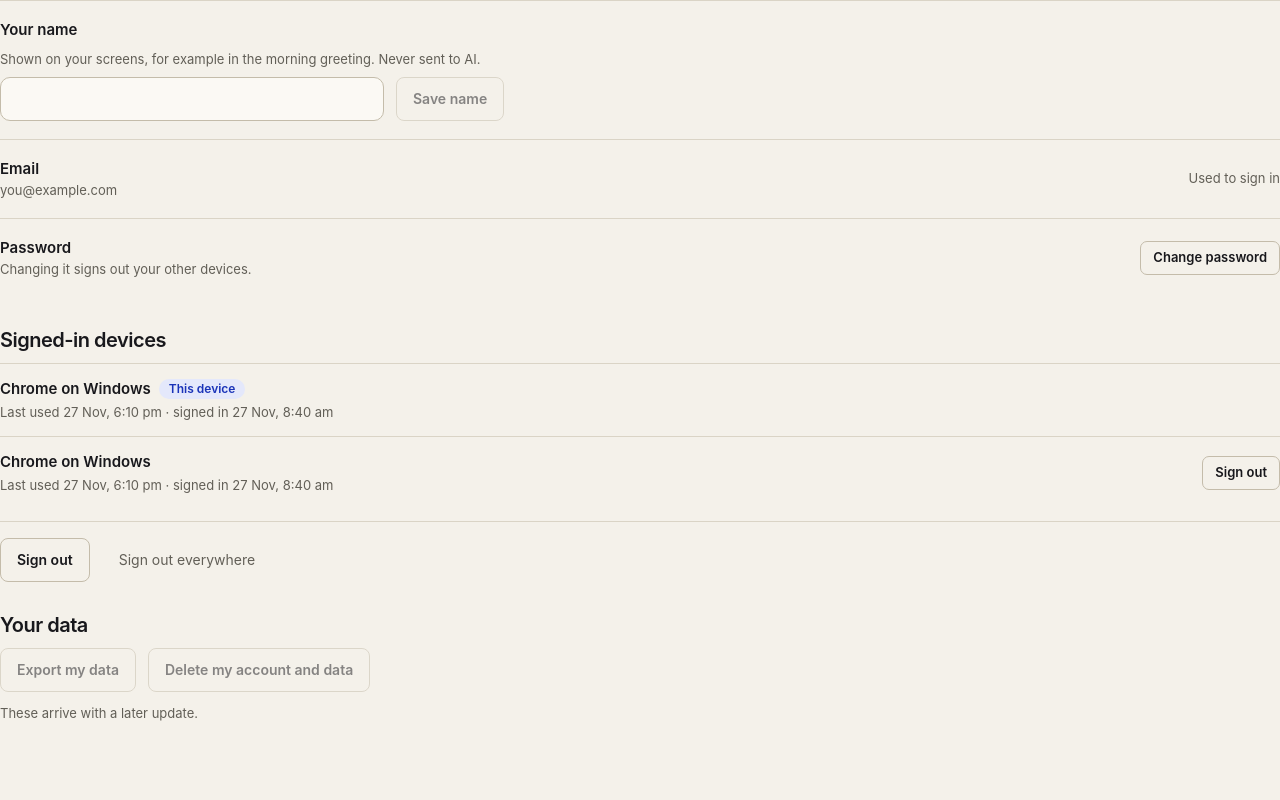
it: account settings › checks the new password before sending it
This screenshot has width=1280, height=800.
Click the button "Change password". click: (1210, 258)
box: [1140, 241, 1279, 275]
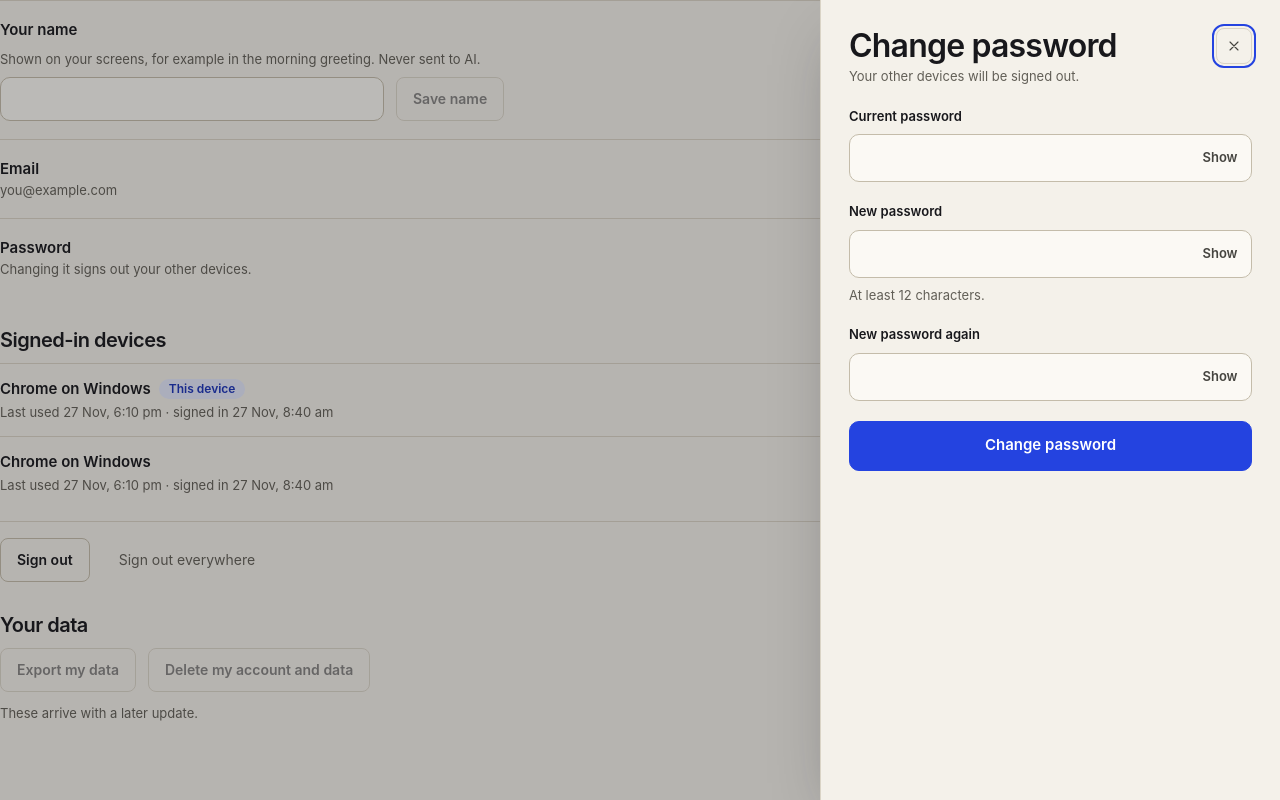
Type "old password here" into the password field labelled "Current password". click: (1050, 158)
box: [849, 134, 1252, 182]
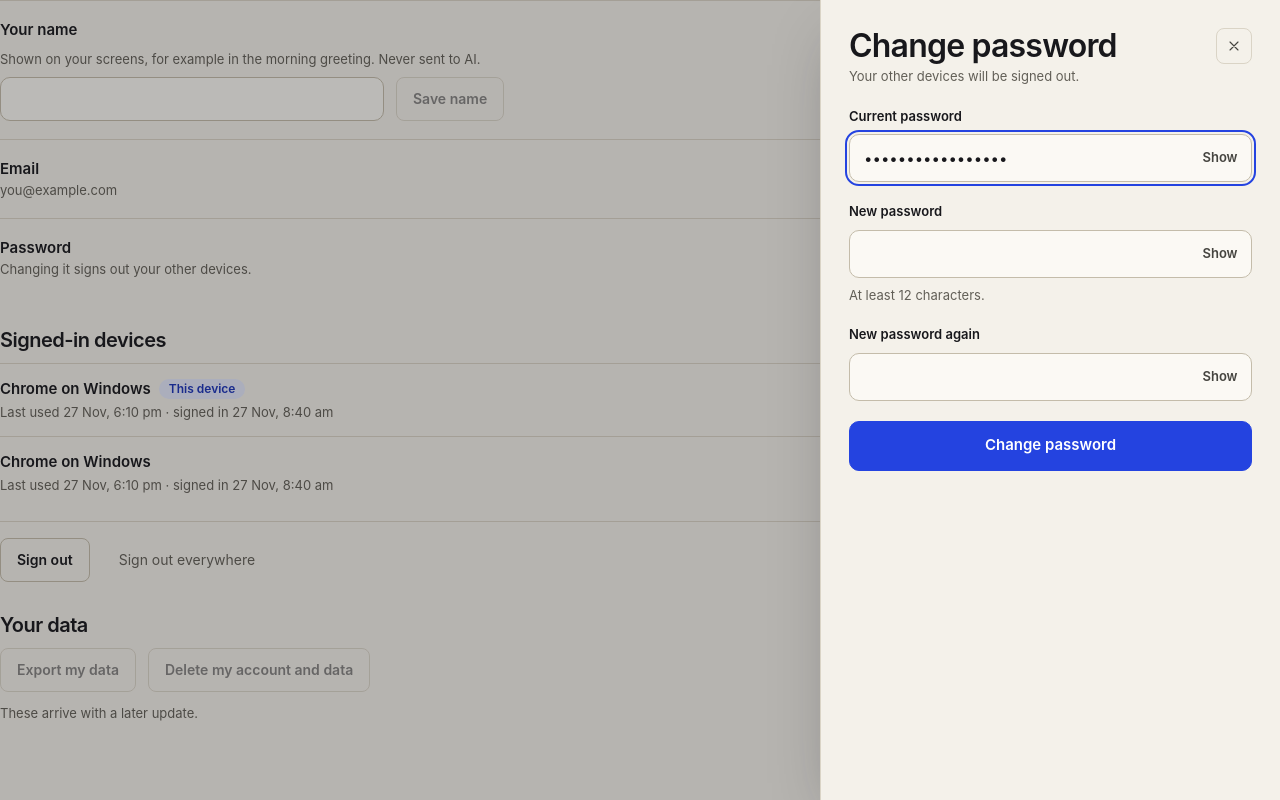
Type "short" into the password field labelled "New password". click: (1050, 254)
box: [849, 230, 1252, 278]
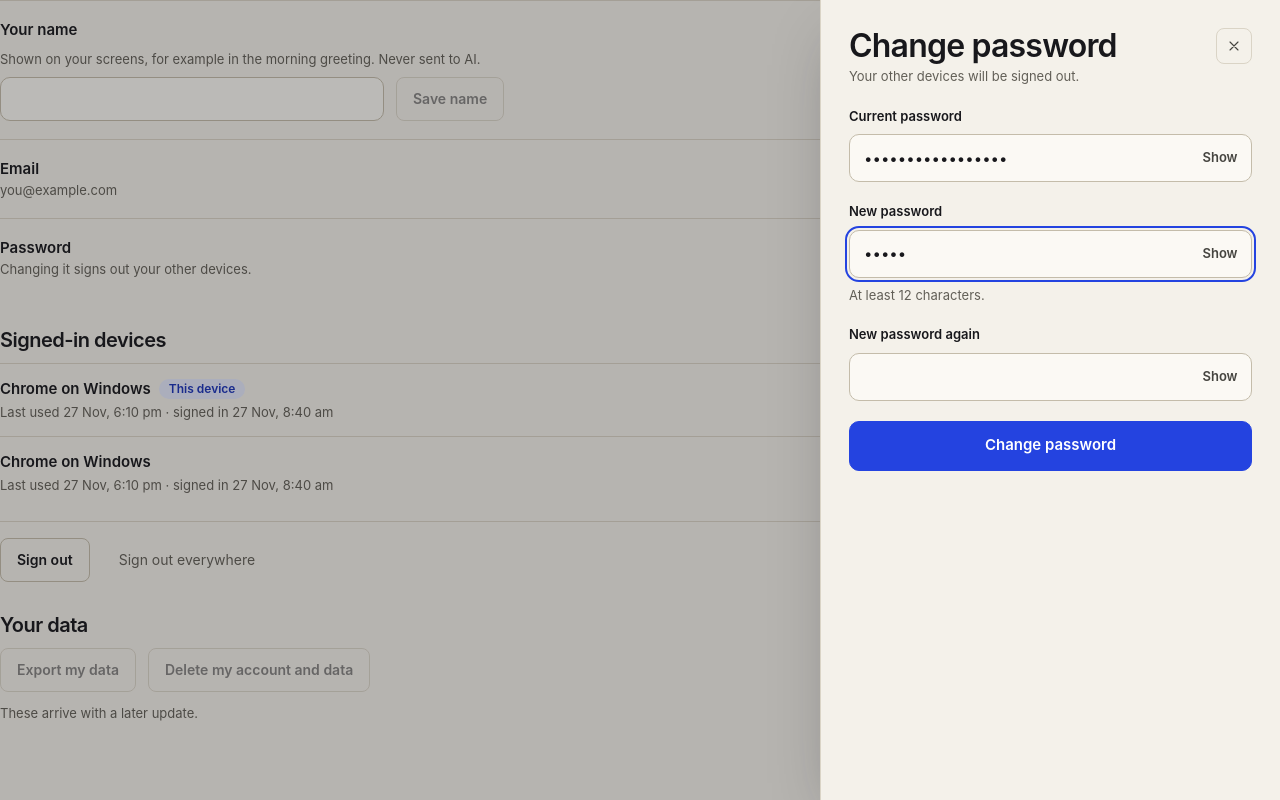
Type "different" into the password field labelled "New password again". click: (1050, 377)
box: [849, 353, 1252, 401]
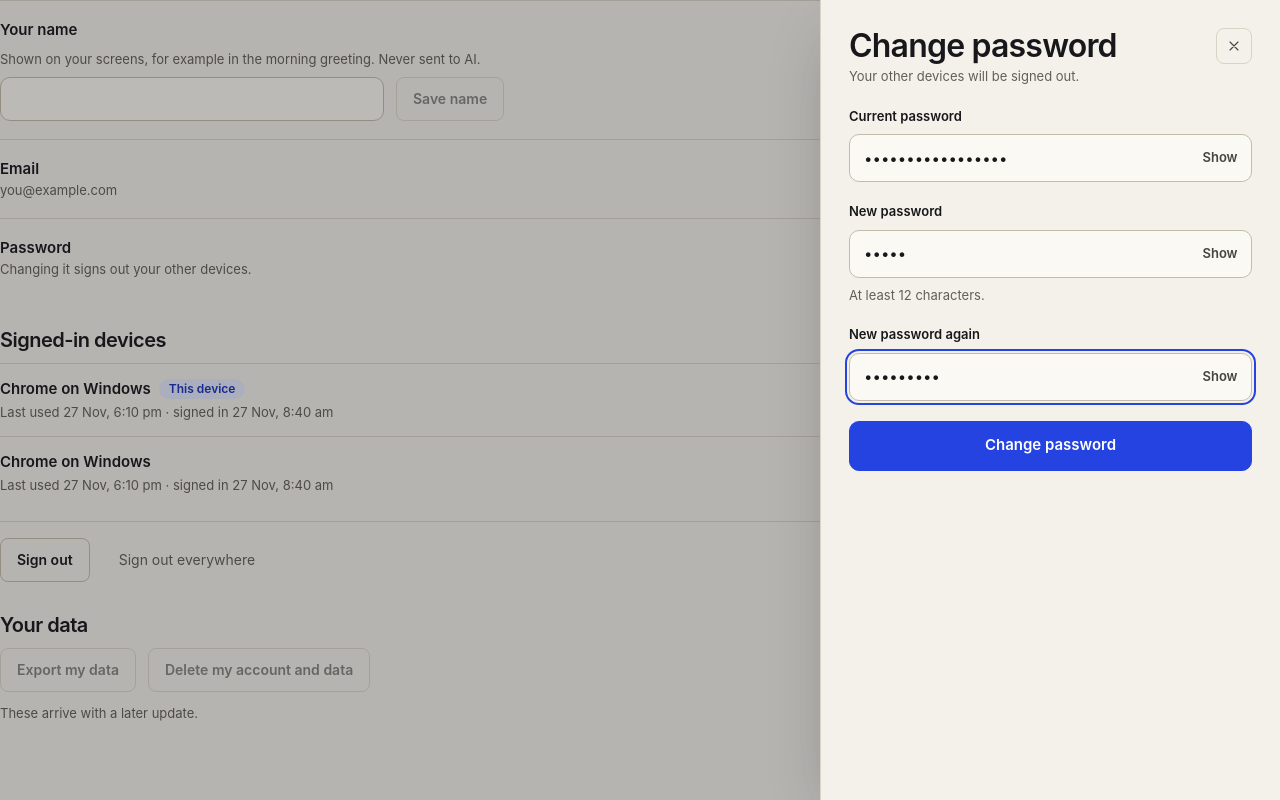
Click the button "Change password". click: (1050, 446)
box: [849, 421, 1252, 471]
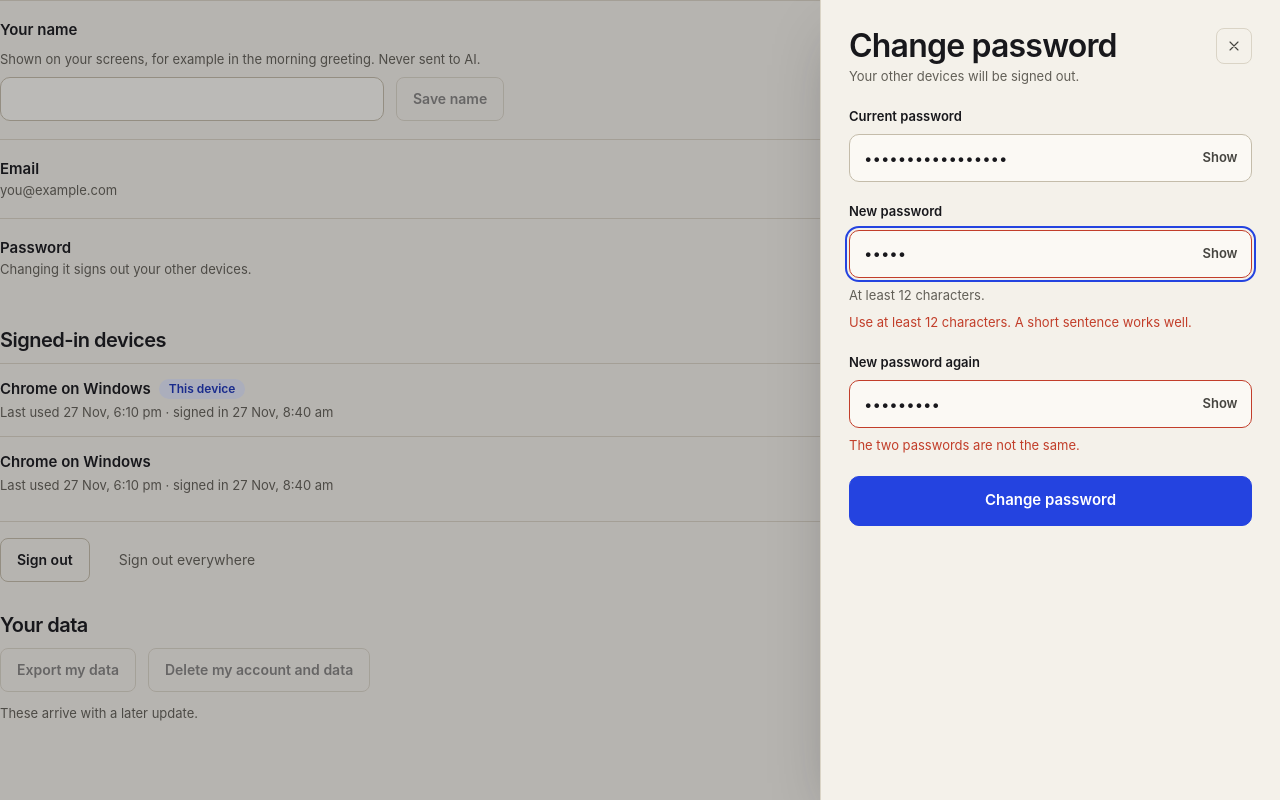
Result: the text "Use at least 12 characters. A short sentence works well." is shown at [849, 313, 1252, 333]
